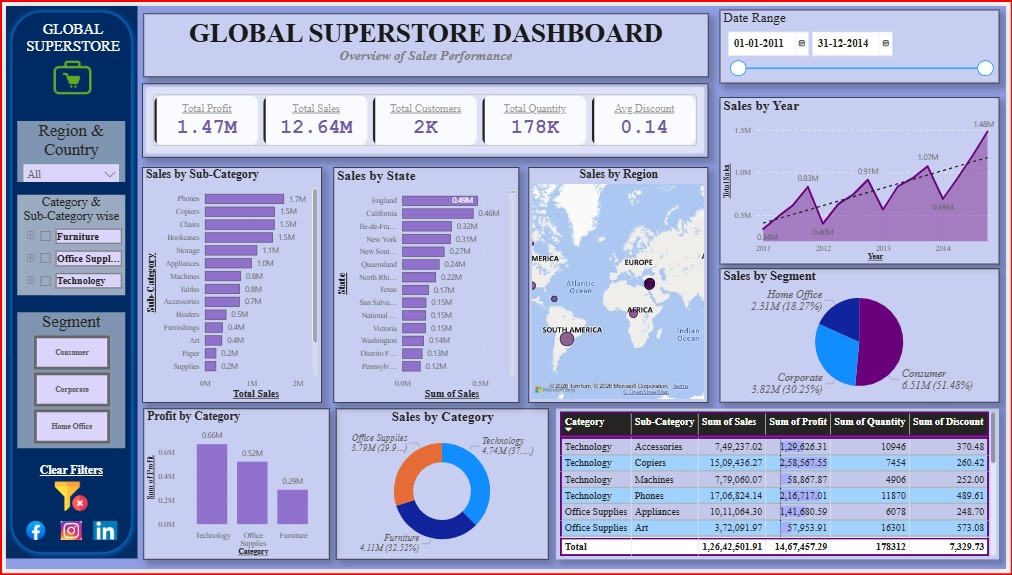

What the dashboard file says about the page in this screenshot:
{"tool":"powerbi","page":{"name":"Global_Dashboard","canvas":[1600,900],"ordinal":0},"visuals":[{"type":"shape","box":[0,0,210,884.3],"z":0},{"type":"slicer","title":"Category & Sub-Category wise ","fields":{"Values":["Global_Superstore.Category","Global_Superstore.Sub-Category"]},"box":[18.5,301.8,172.7,160.8],"z":1000},{"type":"slicer","title":"Segment","fields":{"Values":["Global_Superstore.Segment"]},"box":[18.5,490.3,172.7,217.5],"z":2000},{"type":"textbox","box":[220.1,11.9,904.2,101.5],"z":3000},{"type":"slicer","title":"Date Range","fields":{"Values":["Global_Superstore.Order Date"]},"box":[1142.8,6.6,446.8,117.3],"z":4000},{"type":"areaChart","title":"Sales by Year","fields":{"Category":["Global_Superstore.Order Date.Variation.Date Hierarchy.Year","Global_Superstore.Order Date.Variation.Date Hierarchy.Quarter"],"Y":["Global_Superstore.Total Sales"]},"box":[1142.8,146.3,446.8,267.6],"z":5000},{"type":"donutChart","title":"Sales by Category","fields":{"Category":["Global_Superstore.Category"],"Y":["Sum(Global_Superstore.Sales)"]},"box":[528.6,643.2,340.1,241.2],"z":6000},{"type":"clusteredBarChart","title":"Sales by Sub-Category","fields":{"Category":["Global_Superstore.Sub-Category"],"Y":["Global_Superstore.Total Sales"]},"box":[218.8,258.3,287.3,377],"z":7000},{"type":"map","title":"Sales by Region","fields":{"Category":["Global_Superstore.Region"],"Size":["Sum(Global_Superstore.Sales)"]},"box":[837,258.3,287.3,377],"z":8000},{"type":"pieChart","title":"Sales by Segment","fields":{"Category":["Global_Superstore.Segment"],"Y":["Sum(Global_Superstore.Sales)"]},"box":[1142.9,420,447.1,214.3],"z":9000},{"type":"clusteredBarChart","title":"Sales by State","fields":{"Category":["Global_Superstore.State"],"Y":["Sum(Global_Superstore.Sales)"]},"box":[524.6,258.3,296.6,377],"z":10000},{"type":"clusteredColumnChart","title":"Profit by Category","fields":{"Category":["Global_Superstore.Category"],"Y":["Sum(Global_Superstore.Profit)"]},"box":[220.1,643.2,297.9,241.2],"z":11000},{"type":"tableEx","fields":{"Values":["Global_Superstore.Category","Global_Superstore.Sub-Category","Sum(Global_Superstore.Sales)","Sum(Global_Superstore.Profit)","Sum(Global_Superstore.Quantity)","Sum(Global_Superstore.Discount)"]},"box":[880.5,643.2,709.1,241.2],"z":12000},{"type":"slicer","title":"Region & Country","fields":{"Values":["Global_Superstore.Region","Global_Superstore.Country"]},"box":[18.5,183.2,172.7,97.5],"z":13000},{"type":"image","box":[55.4,83,100.2,60.6],"z":14000},{"type":"cardVisual","fields":{"Data":["Global_Superstore.Total Profit","Global_Superstore.Total Sales","Global_Superstore.Total Customers","Global_Superstore.Total Quantity","Global_Superstore.Avg Discount"]},"box":[218.8,123.9,905.5,118.6],"z":15000},{"type":"image","title":"Clear Filters","box":[18.5,732.9,172.7,79.1],"z":16000},{"type":"image","box":[18.5,823.8,59.3,30.3],"z":17000},{"type":"image","box":[85.7,823.8,36.9,30.3],"z":18000},{"type":"image","box":[125.2,823.8,65.9,30.3],"z":19000}]}

Visuals, with their boxes in screenshot pixels (x1, y1, x2, y2), scaled from the page's 1600x900 canvas onto the 1012x575 screenshot:
shape: 0,0,133,565
"Category & Sub-Category wise " slicer: 12,193,121,296
"Segment" slicer: 12,313,121,452
textbox: 139,8,711,72
"Date Range" slicer: 723,4,1005,79
"Sales by Year" areaChart: 723,93,1005,264
"Sales by Category" donutChart: 334,411,549,565
"Sales by Sub-Category" clusteredBarChart: 138,165,320,406
"Sales by Region" map: 529,165,711,406
"Sales by Segment" pieChart: 723,268,1006,405
"Sales by State" clusteredBarChart: 332,165,519,406
"Profit by Category" clusteredColumnChart: 139,411,328,565
tableEx - Global_Superstore.Category x Global_Superstore.Sub-Category: 557,411,1005,565
"Region & Country" slicer: 12,117,121,179
image: 35,53,98,92
cardVisual - Global_Superstore.Total Profit x Global_Superstore.Total Sales: 138,79,711,155
"Clear Filters" image: 12,468,121,519
image: 12,526,49,546
image: 54,526,78,546
image: 79,526,121,546
